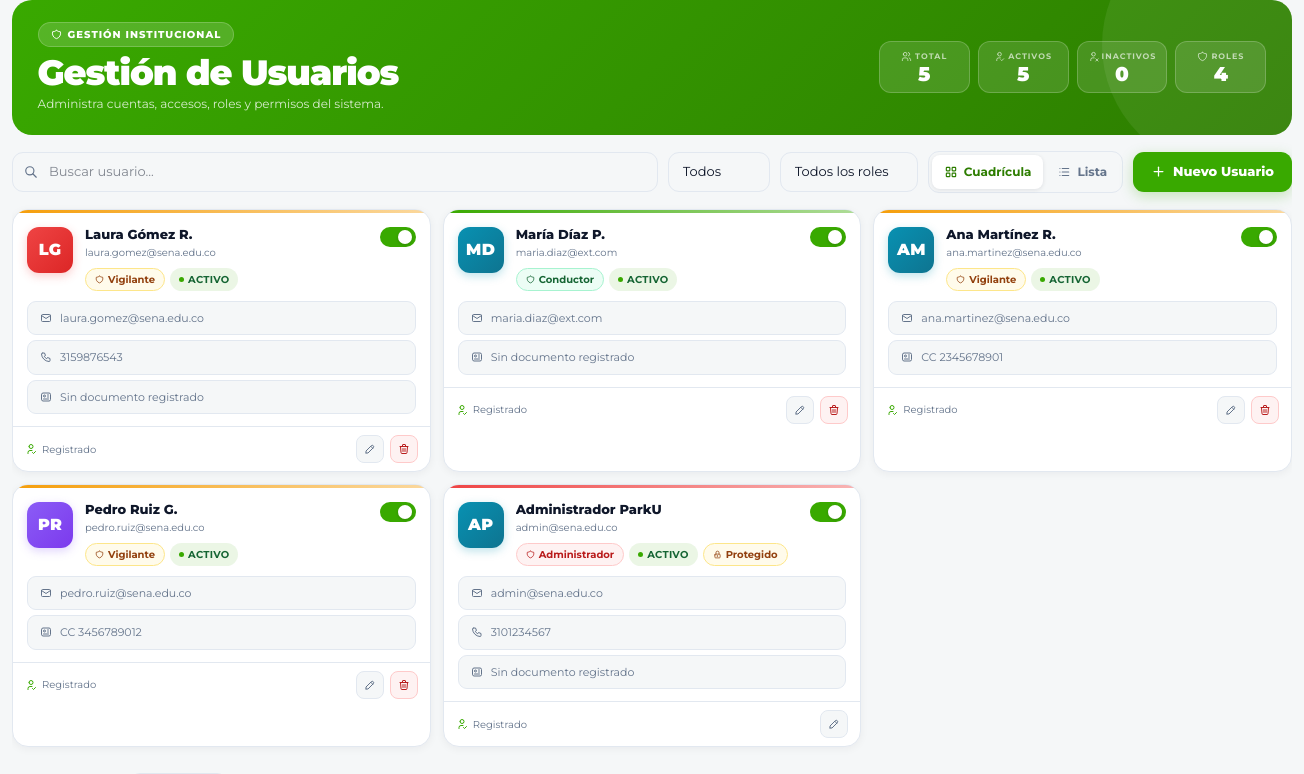
it: Usuarios › carga en el filtro todos los roles existentes, incluso uno sin usuarios
Check: the text "Ana Martínez R." is shown, box [946, 226, 1056, 242]
// Y filtrar por rol sigue funcionando (se compara por id, no por nombre).
Select "Vigilante" in the dropdown named "Filtrar por rol" at (849, 172), box [780, 152, 918, 192]
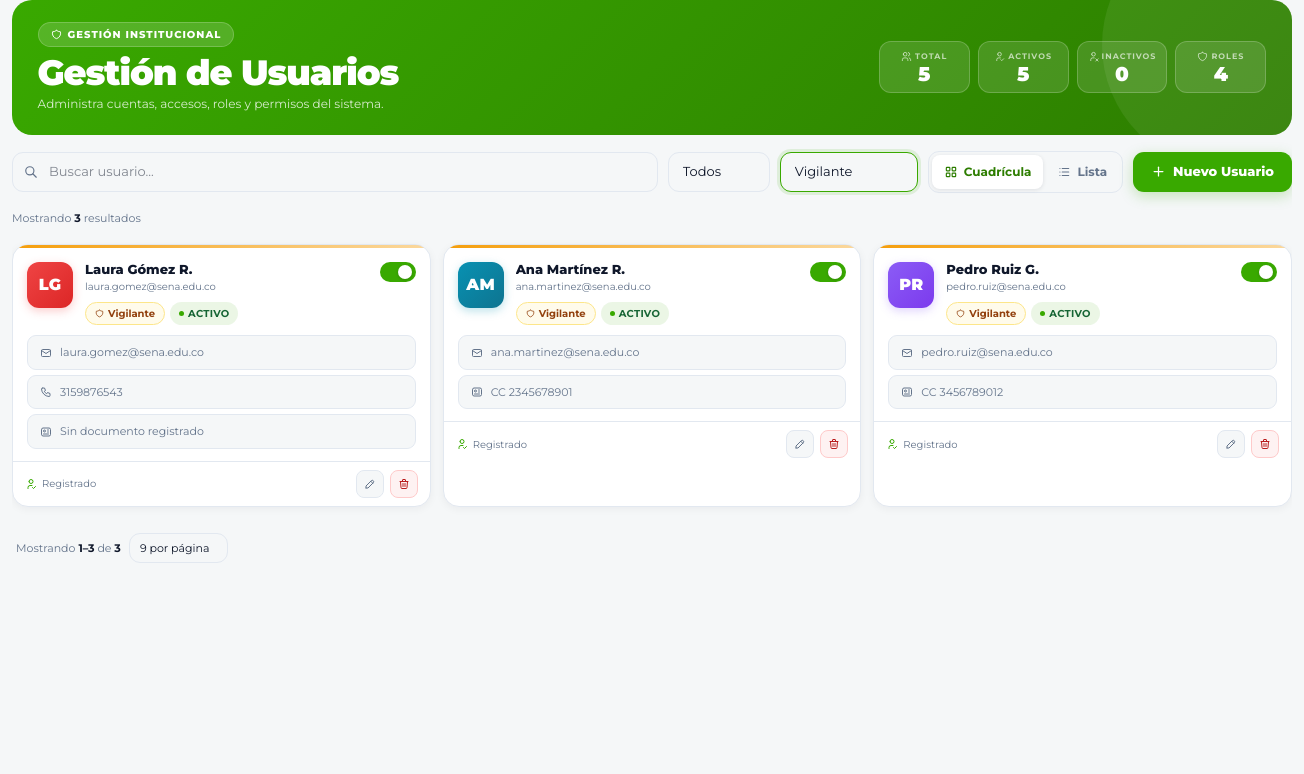
Check: the text "Ana Martínez R." is shown, box [516, 261, 625, 277]
Check: the text "María Díaz P." is gone
